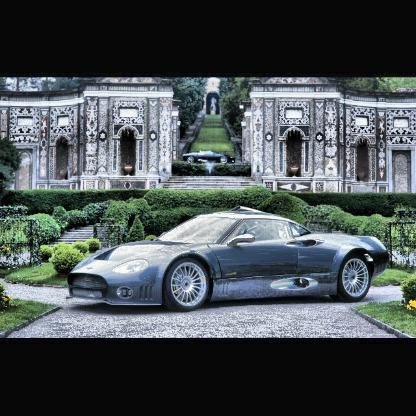Spyker C8 Coupe 2009: (68, 205, 390, 314)
